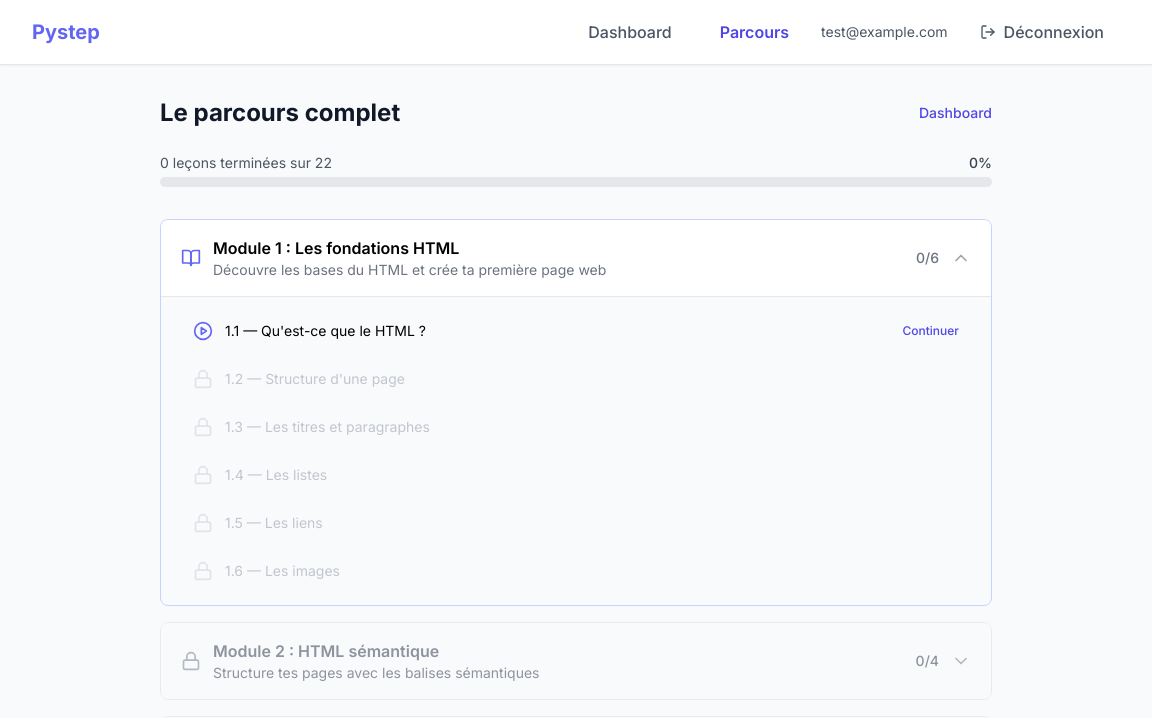
Test: CoursePage › should show locked message for modules 2-5
// Expand module 2 to see locked message
Click the button "Module". click: coordinates (244, 651)
box: [161,623,991,699]
(page scrolled)
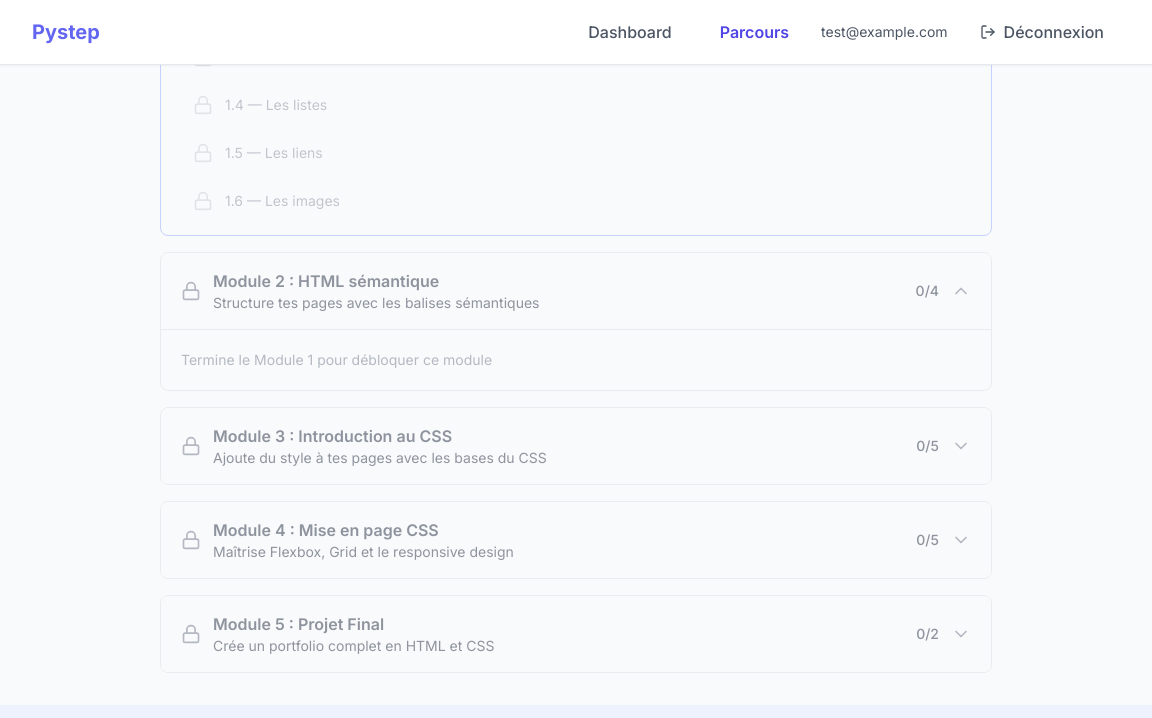
Check: the text "Termine le Module 1 pour débloquer ce module" is shown, box [181,351,492,368]
